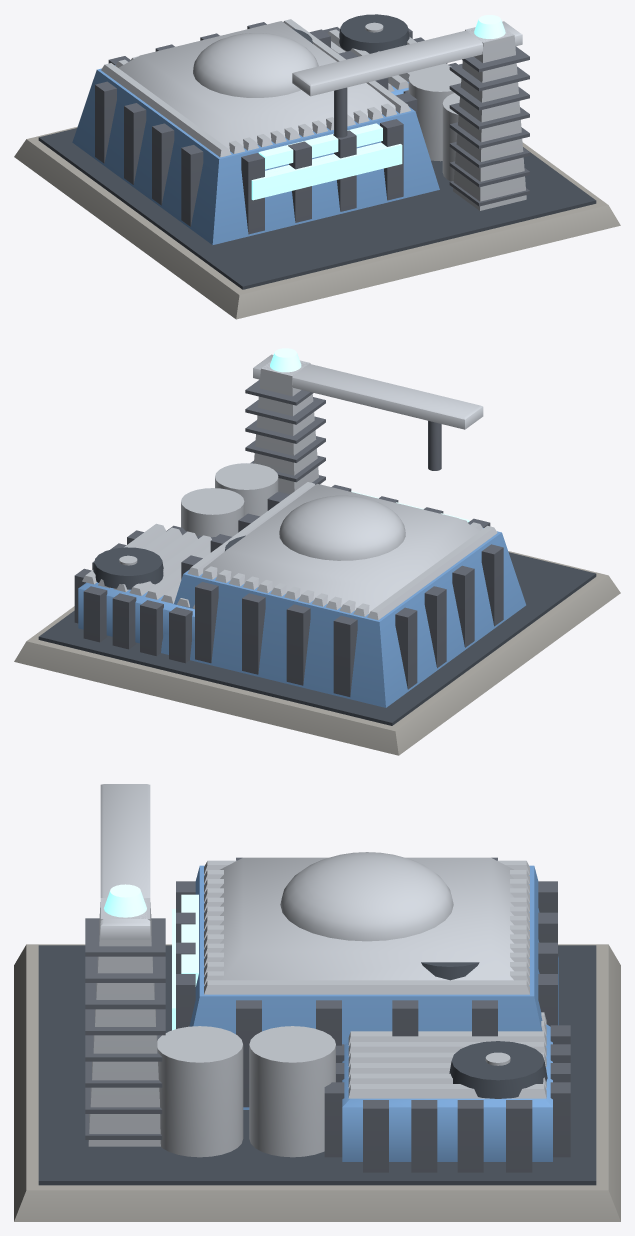
The model's file is fact.glb.
3 renders of one model, top to bottom at view 1: azimuth 30°, elevation 25°; view 2: azimuth 150°, elevation 25°; view 3: azimuth 270°, elevation 25°, orthographic. The views are drawn at different scales.
Parts seen in each view (by area): view 1: Hull; view 2: Hull; view 3: Hull.
Part boxes in pixels (x1,y1,x2,y2): Hull: [14, 14, 620, 319]; Hull: [14, 348, 620, 755]; Hull: [14, 784, 620, 1221].
Bounding box in the file's own units: 5.29 × 2.6 × 5.29.
